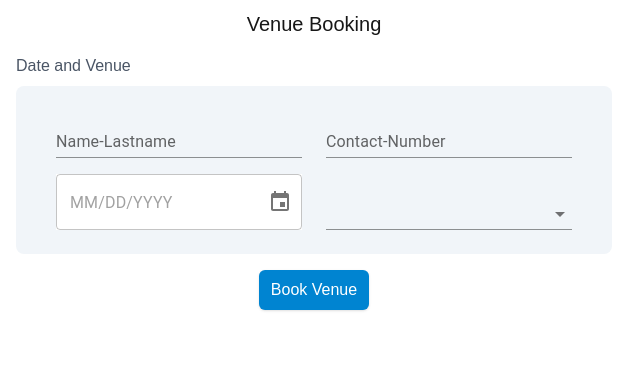
Scenario: Booking Page › Booking Page contains Form
The width and height of the screenshot is (629, 384).
Step 1. Click the dropdown → (449, 214), box left=326, top=198, right=572, bottom=230
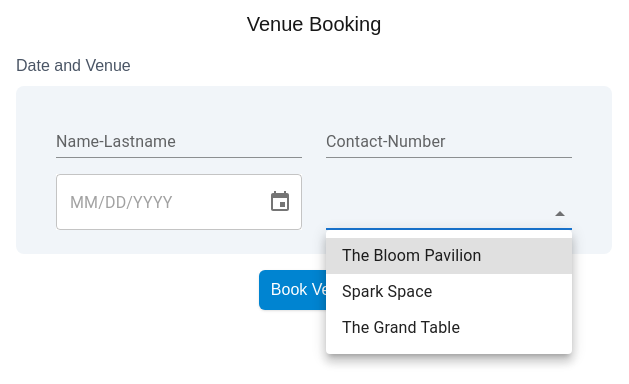
Expected: the option "The Bloom Pavilion" is shown, left=326, top=238, right=572, bottom=274
Expected: the option "Spark Space" is shown, left=342, top=282, right=432, bottom=301
Expected: the option "The Grand Table" is shown, left=342, top=318, right=460, bottom=337
